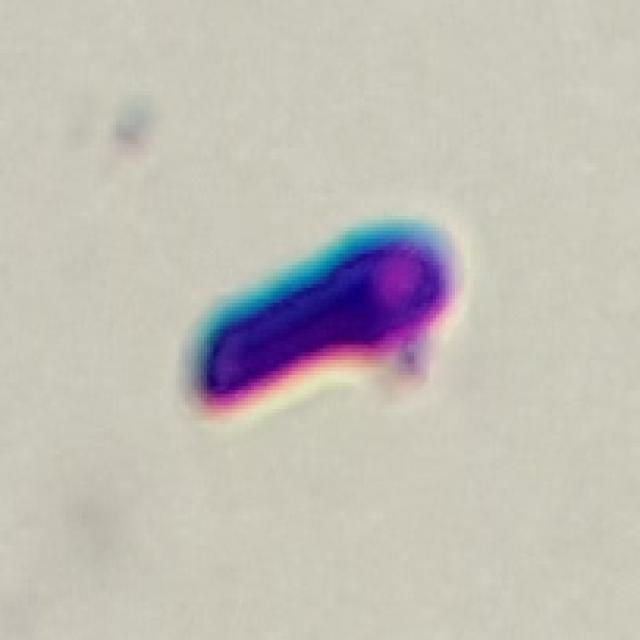non-sperm: (194, 224, 457, 413)
